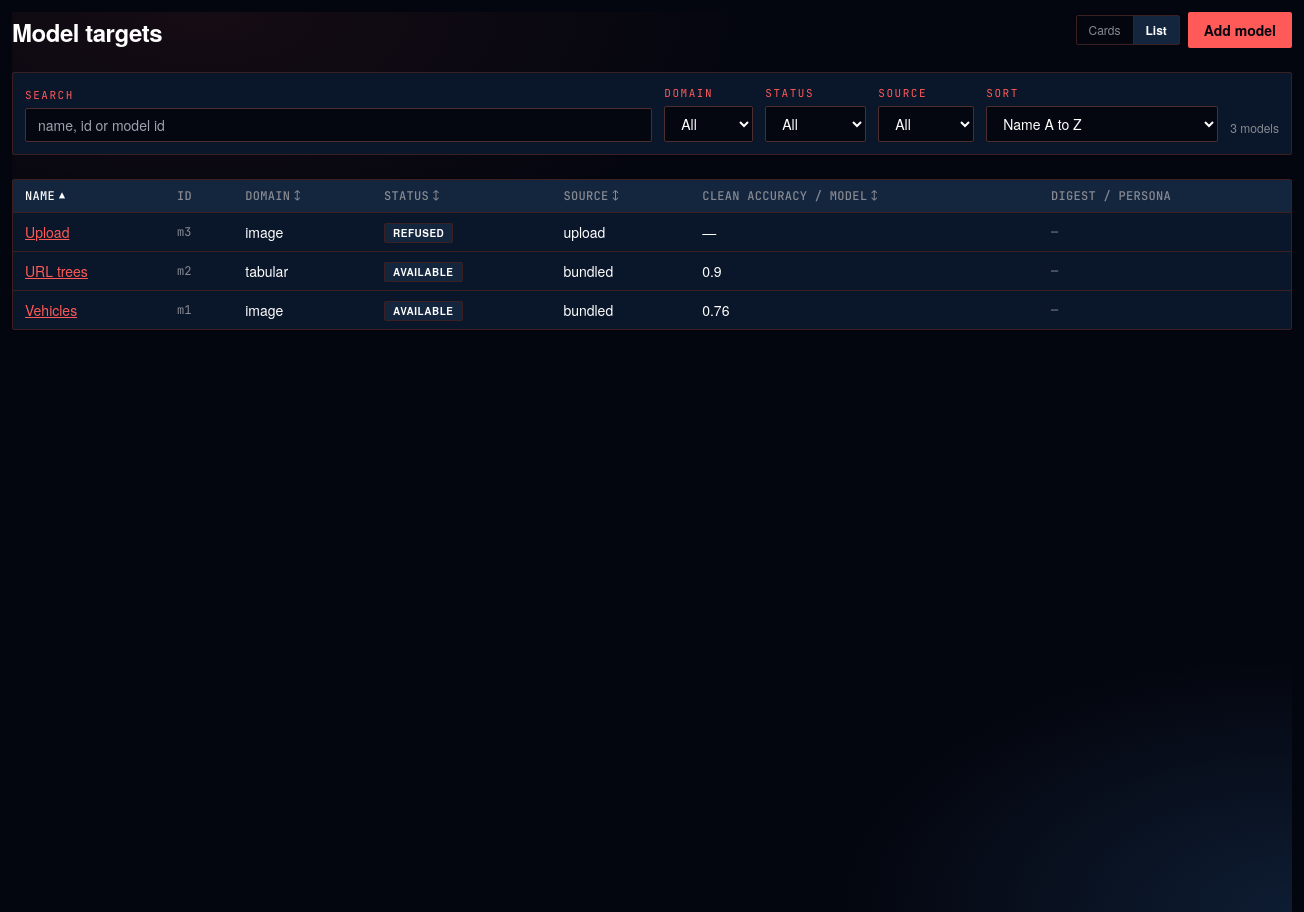
Test: /models › sorts the list view from its column headers
Click the button "Name ▲" at (45, 196), box [25,188,65,204]
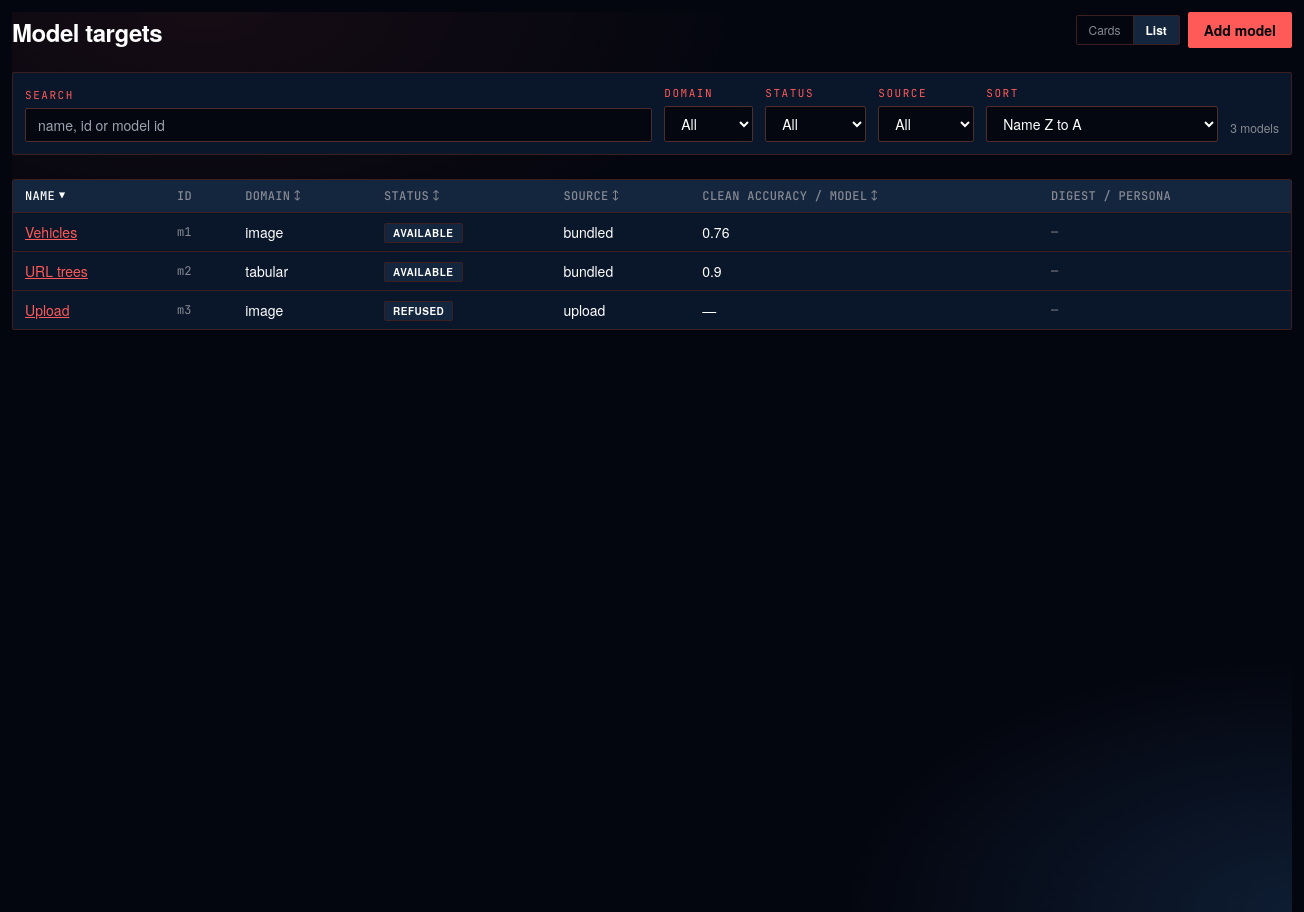
Now the column heading "Name ▼" has attribute aria-sort="descending", box [13,180,165,212]
Click the button "Source ↕" at (591, 196), box [563,188,619,204]
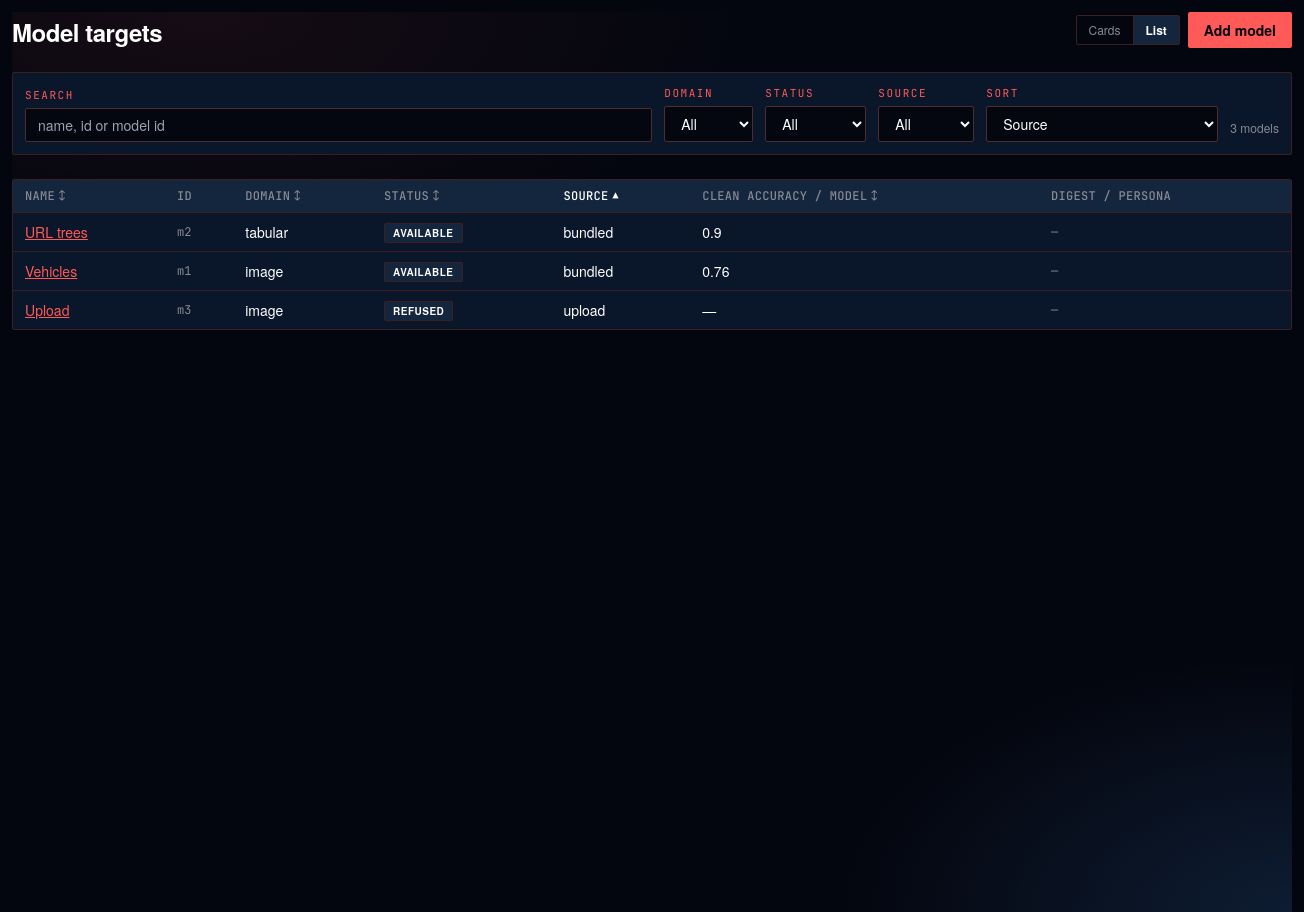
Now the dropdown labelled "sort" shows "Source", box [986,106,1218,142]
